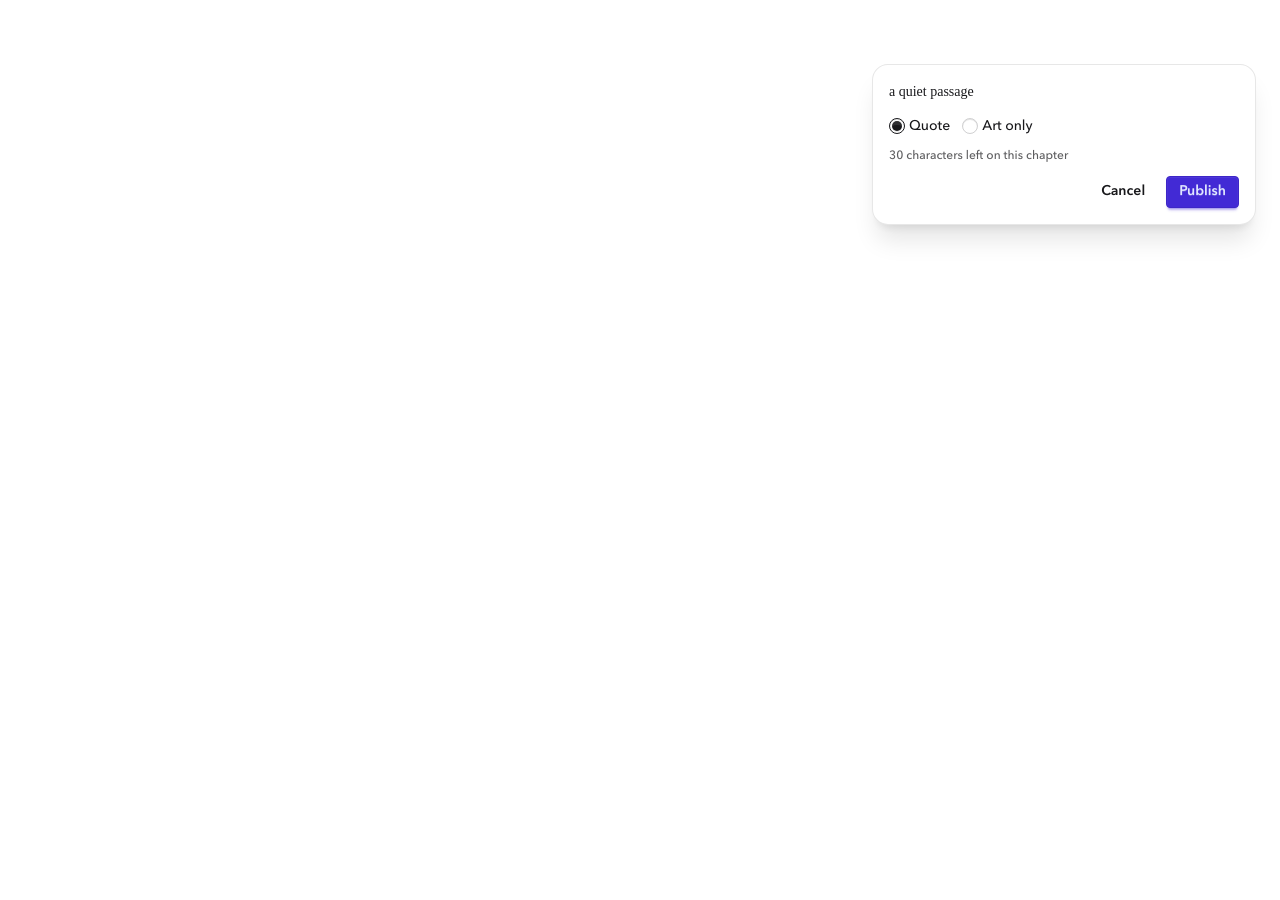
it: PublishSheet › shows the copy for invalid_anchor
The width and height of the screenshot is (1280, 900).
Click the button "Publish": (1203, 192) 1166,176 -> 1239,208
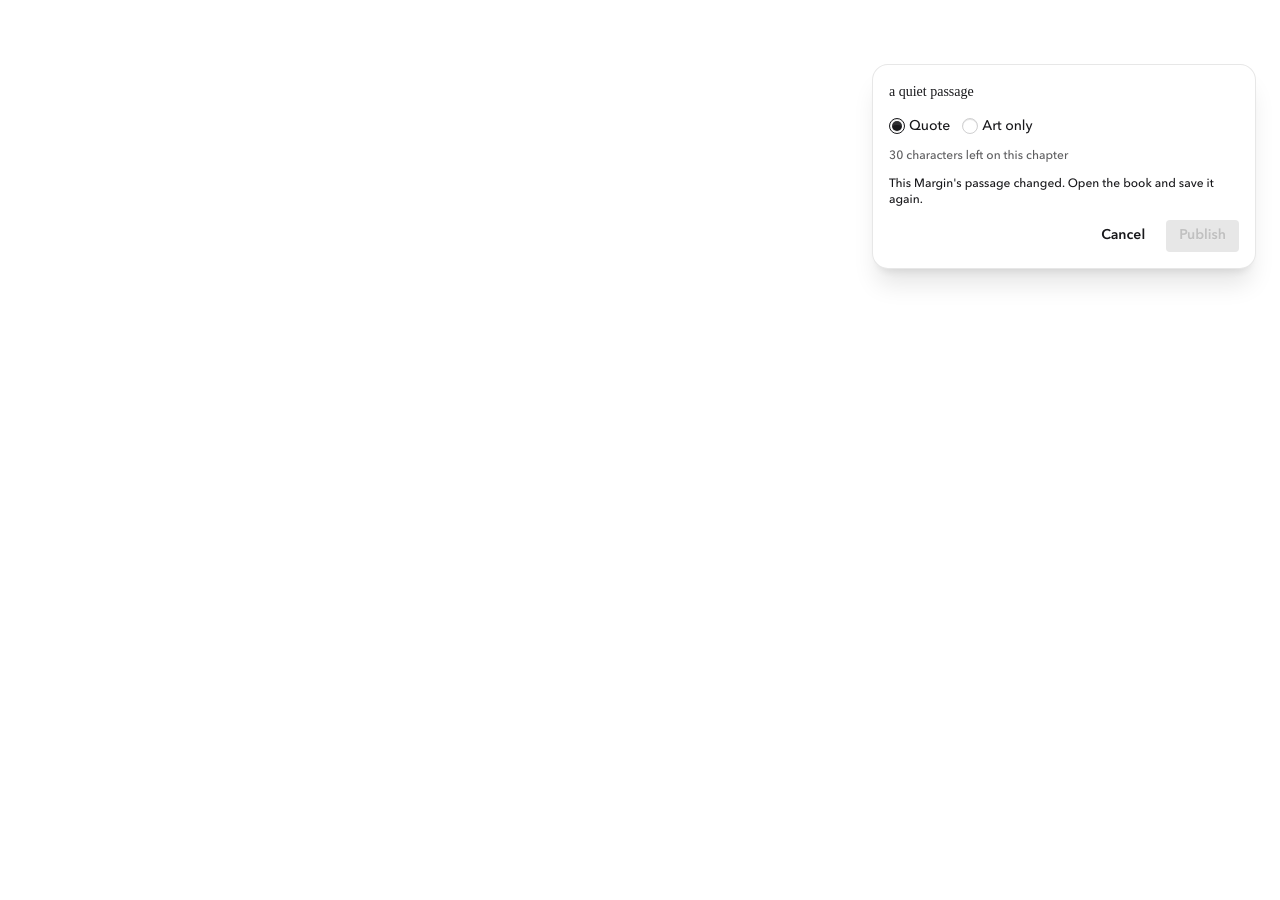
Expected: the text "This Margin's passage changed. Open the book and save it again." is shown, 889,176 -> 1239,208
